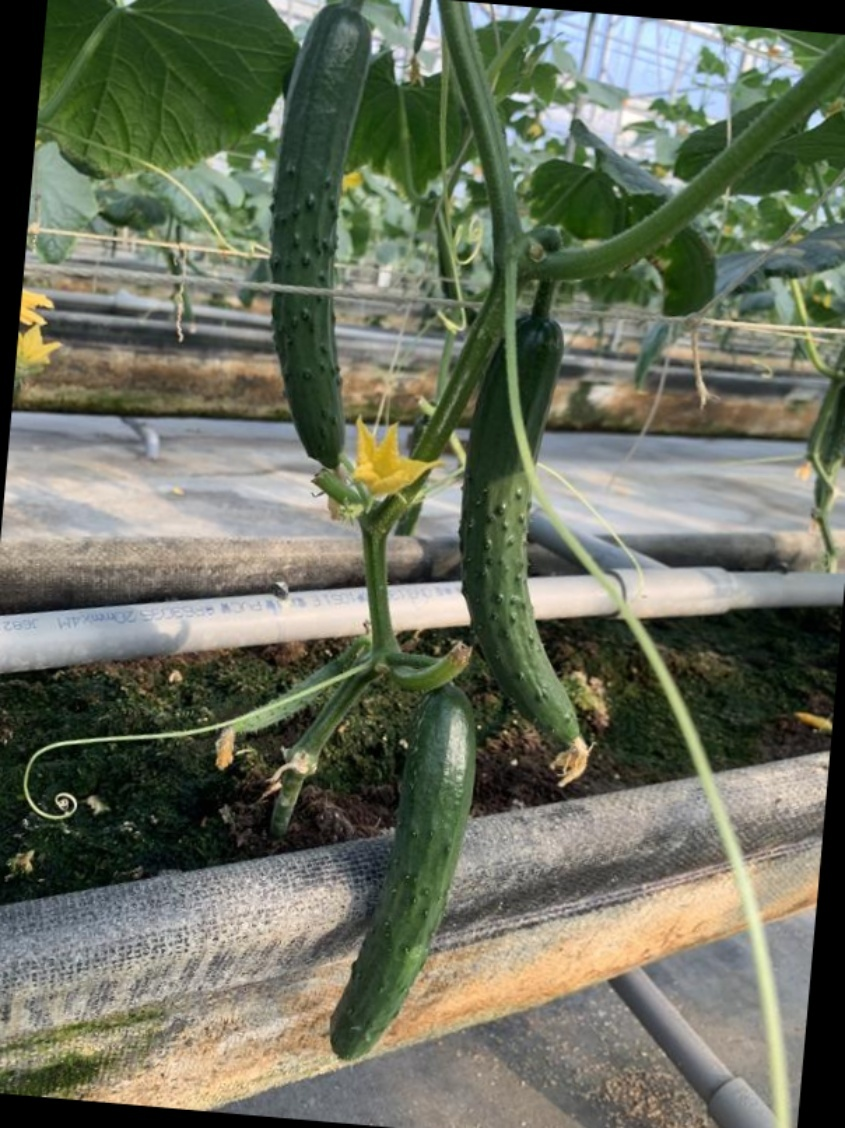mature: (325, 682, 478, 1064)
